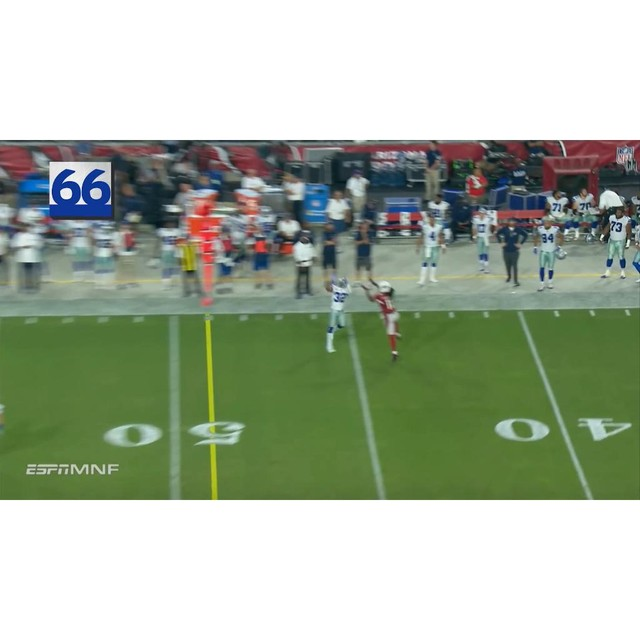american-football-player: (368, 281, 404, 362), (324, 276, 355, 352)
